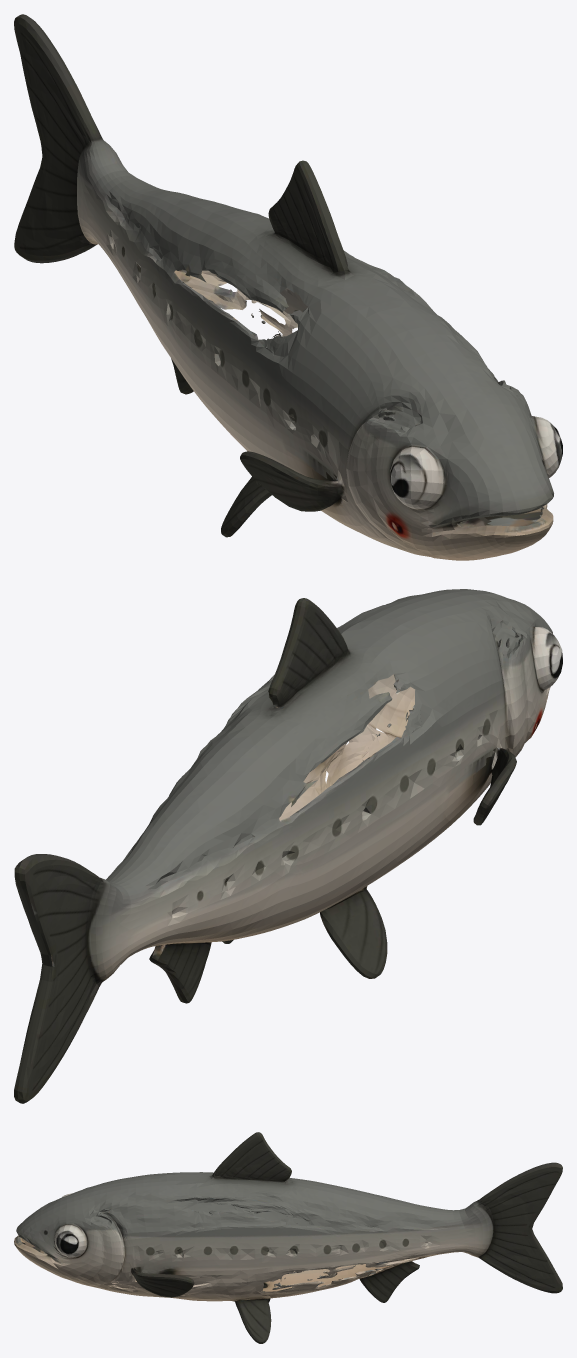
File: pejerrey_de_mar.glb
3 views of the same model, one above another, from view 1: azimuth 30°, elevation 25°; view 2: azimuth 150°, elevation 25°; view 3: azimuth 270°, elevation 25° (orthographic). The views are drawn at different scales.
Visible parts, largest first — view 1: tripo_node_2ec05c0f-712f-4922-8af7-151b2d2c5dd2; view 2: tripo_node_2ec05c0f-712f-4922-8af7-151b2d2c5dd2; view 3: tripo_node_2ec05c0f-712f-4922-8af7-151b2d2c5dd2.
Boxes of the visible parts, x1,y1,x2,y2 form: tripo_node_2ec05c0f-712f-4922-8af7-151b2d2c5dd2: [14, 14, 562, 560]; tripo_node_2ec05c0f-712f-4922-8af7-151b2d2c5dd2: [14, 589, 562, 1103]; tripo_node_2ec05c0f-712f-4922-8af7-151b2d2c5dd2: [14, 1132, 562, 1343].
Size of the model in its own units: 0.282 by 0.386 by 0.9993.
Materials: 1 (1 with a texture image).
